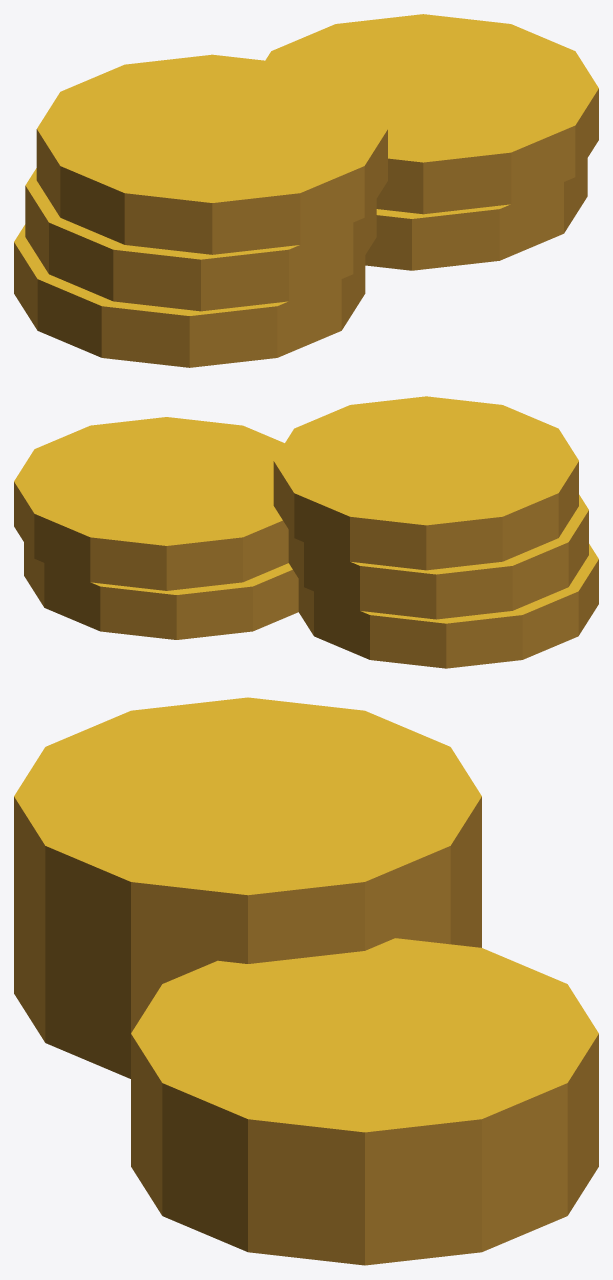
File: prop_coins_s.fbx
3 views of the same model, one above another, from view 1: azimuth 30°, elevation 25°; view 2: azimuth 150°, elevation 25°; view 3: azimuth 270°, elevation 25° (orthographic). The views are drawn at different scales.
Parts seen in each view (by area): view 1: prop_coins_s; view 2: prop_coins_s; view 3: prop_coins_s.
Part boxes in pixels (x1,y1,x2,y2): prop_coins_s: [14, 14, 598, 367]; prop_coins_s: [14, 396, 598, 668]; prop_coins_s: [14, 697, 598, 1265].
Size of the model in its own units: 0.1836 by 0.048 by 0.12.
